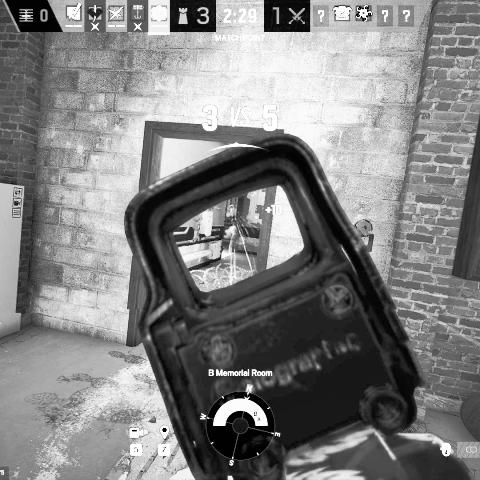Character: (230, 205, 236, 226)
Head: (230, 205, 234, 210)
